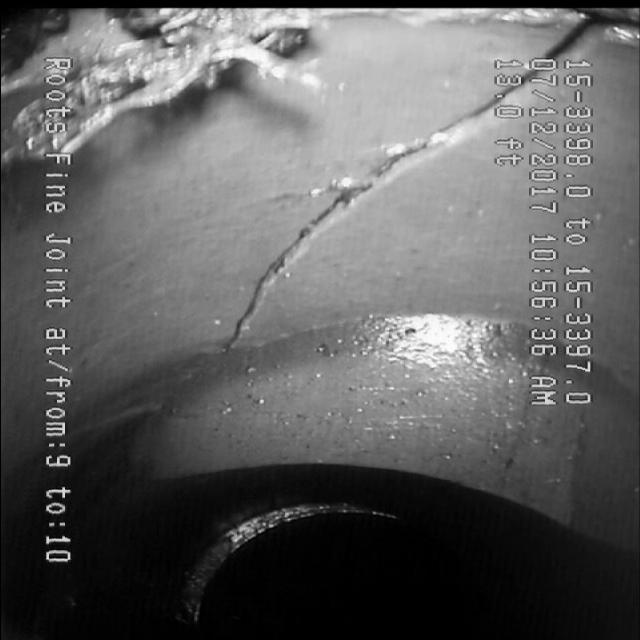Crack: (197, 117, 464, 340)
